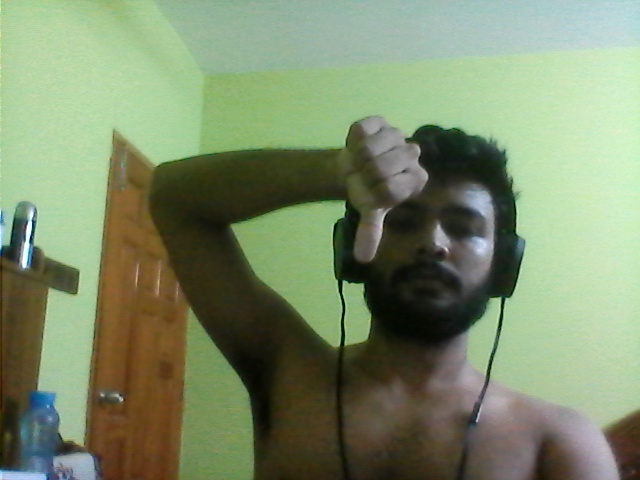No: (334, 113, 429, 275)
